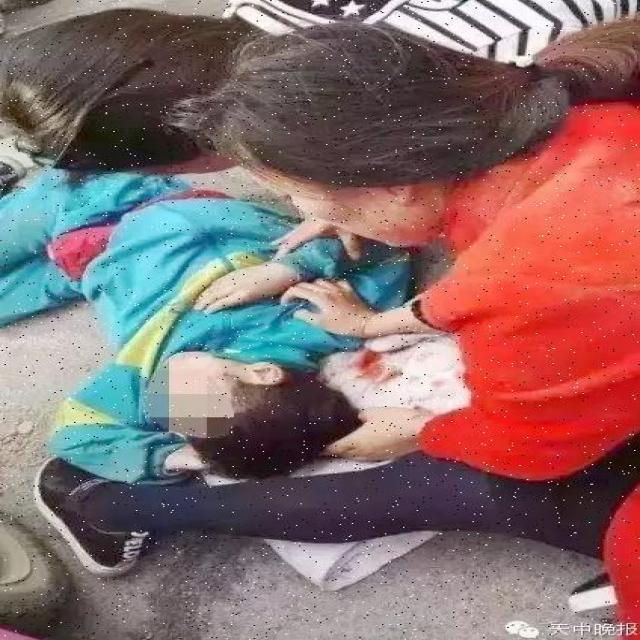fall: (1, 174, 348, 463)
